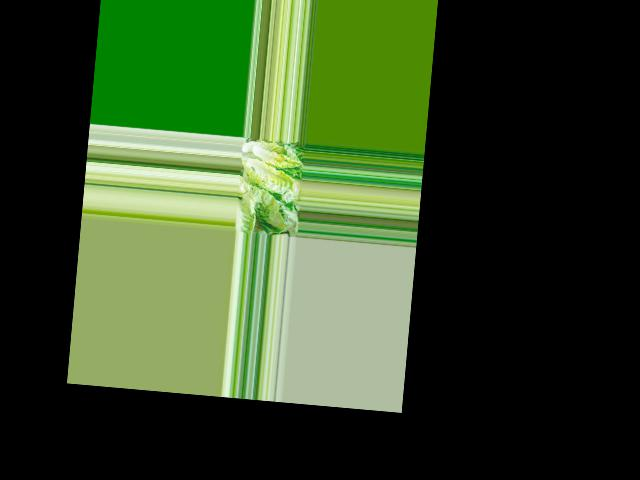lettuce: (236, 139, 301, 204)
